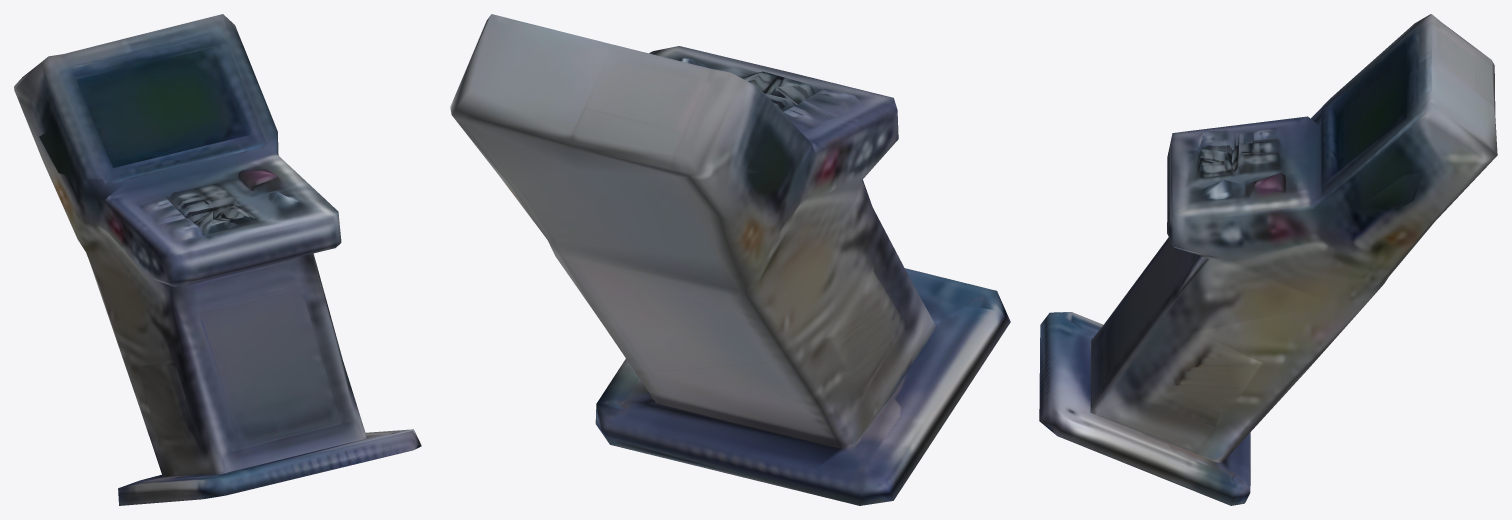
File: tripo_convert_740fd70b-d6bd-47c3-b3cc-2346c2276249.fbx
3 renders of one model, left to right at view 1: azimuth 30°, elevation 25°; view 2: azimuth 150°, elevation 25°; view 3: azimuth 270°, elevation 25°, orthographic. The views are drawn at different scales.
Visible parts, largest first — view 1: tripo_node_740fd70b; view 2: tripo_node_740fd70b; view 3: tripo_node_740fd70b.
Boxes of the visible parts, box(x1,y1,x2,y2) form: tripo_node_740fd70b: box(14, 14, 421, 505); tripo_node_740fd70b: box(450, 14, 1010, 505); tripo_node_740fd70b: box(1039, 14, 1497, 505).
Size of the model in its own units: 0.584 by 0.9648 by 1.01.
1 material, 1 textured.
